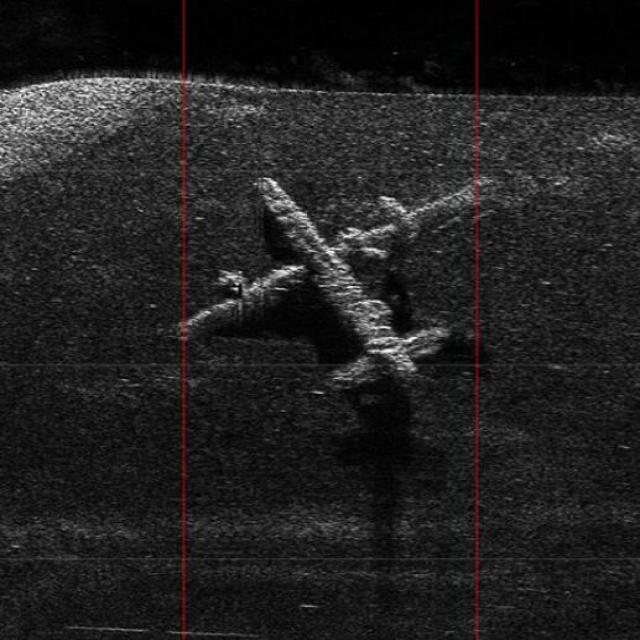plane: (161, 165, 510, 396)
